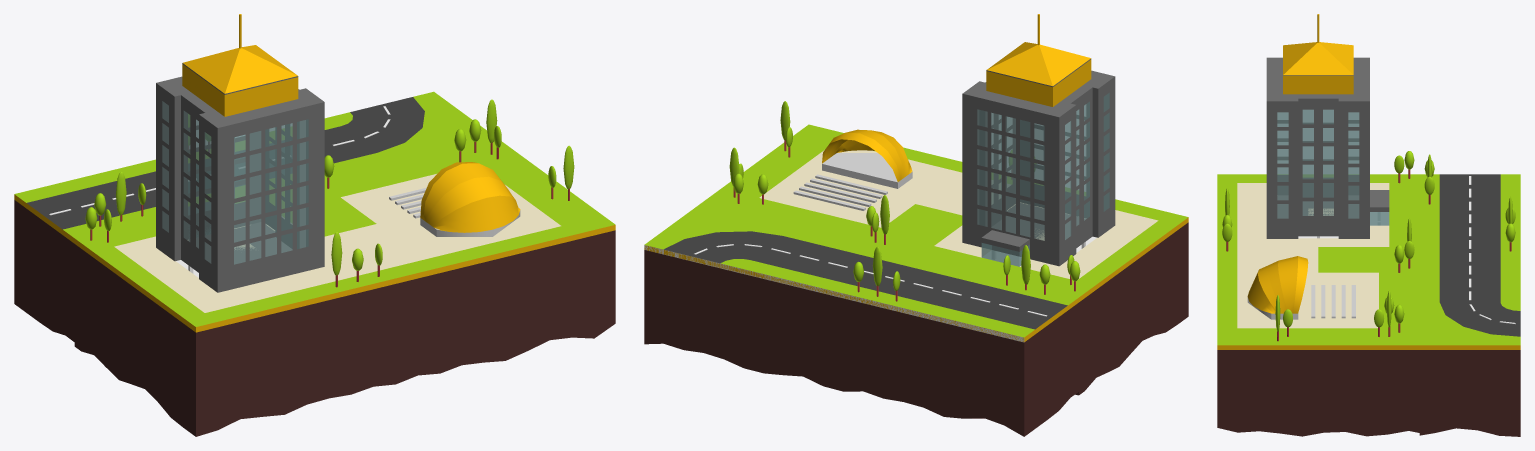
The model's file is overview.dae.
3 views of the same model, side by side, from view 1: azimuth 30°, elevation 25°; view 2: azimuth 150°, elevation 25°; view 3: azimuth 270°, elevation 25° (orthographic). The views are drawn at different scales.
Parts seen in each view (by area): view 1: fef7d243-ff73-44c4-85b4-75331febaa0b, af647f5d-5ba7-4377-a7e1-99fc1653c0ef, f9627616-55ad-4168-bee3-c4efe342b9d5, dca888bb-3882-4458-b8ee-13866873a461, a338ef20-35cc-4352-bb46-93172cdcf452, e663385d-0089-4fc5-95d7-fb1334f9df78, a9928037-2eb7-487d-83bb-09142c56451e, a56b2e35-652e-428f-b515-0bdb80921c08, b9bafd4d-7958-4cab-a7f9-b991a16603ce, aff2afb5-cb59-41e5-a849-02ff7cf1fc95, ac0dbc92-fd7e-454d-ae20-9e1ecc91cb48, a2ac3bf1-12a3-4d6f-b81c-e39a974b03f0 (+9 smaller); view 2: a9928037-2eb7-487d-83bb-09142c56451e, af647f5d-5ba7-4377-a7e1-99fc1653c0ef, a338ef20-35cc-4352-bb46-93172cdcf452, fef7d243-ff73-44c4-85b4-75331febaa0b, dca888bb-3882-4458-b8ee-13866873a461, b9bafd4d-7958-4cab-a7f9-b991a16603ce, e663385d-0089-4fc5-95d7-fb1334f9df78, aff2afb5-cb59-41e5-a849-02ff7cf1fc95, ad58c5b7-07e5-4a5a-8a23-45509512fe29, a56b2e35-652e-428f-b515-0bdb80921c08, ac0dbc92-fd7e-454d-ae20-9e1ecc91cb48, a2ac3bf1-12a3-4d6f-b81c-e39a974b03f0 (+8 smaller); view 3: f9627616-55ad-4168-bee3-c4efe342b9d5, af647f5d-5ba7-4377-a7e1-99fc1653c0ef, a338ef20-35cc-4352-bb46-93172cdcf452, a9928037-2eb7-487d-83bb-09142c56451e, dca888bb-3882-4458-b8ee-13866873a461, e663385d-0089-4fc5-95d7-fb1334f9df78, b9bafd4d-7958-4cab-a7f9-b991a16603ce, aff2afb5-cb59-41e5-a849-02ff7cf1fc95, a56b2e35-652e-428f-b515-0bdb80921c08, ad58c5b7-07e5-4a5a-8a23-45509512fe29, ac0dbc92-fd7e-454d-ae20-9e1ecc91cb48, a2ac3bf1-12a3-4d6f-b81c-e39a974b03f0 (+9 smaller).
Part boxes in pixels (<box>): fef7d243-ff73-44c4-85b4-75331febaa0b: <box>74,244,405,436</box>; af647f5d-5ba7-4377-a7e1-99fc1653c0ef: <box>156,76,324,292</box>; f9627616-55ad-4168-bee3-c4efe342b9d5: <box>406,230,615,380</box>; dca888bb-3882-4458-b8ee-13866873a461: <box>291,137,615,275</box>; a338ef20-35cc-4352-bb46-93172cdcf452: <box>27,97,424,229</box>; e663385d-0089-4fc5-95d7-fb1334f9df78: <box>341,174,560,266</box>; a9928037-2eb7-487d-83bb-09142c56451e: <box>14,200,74,341</box>; a56b2e35-652e-428f-b515-0bdb80921c08: <box>114,218,392,312</box>; b9bafd4d-7958-4cab-a7f9-b991a16603ce: <box>75,191,405,326</box>; aff2afb5-cb59-41e5-a849-02ff7cf1fc95: <box>63,91,487,238</box>; ac0dbc92-fd7e-454d-ae20-9e1ecc91cb48: <box>183,14,297,93</box>; a2ac3bf1-12a3-4d6f-b81c-e39a974b03f0: <box>182,64,298,116</box>; a9928037-2eb7-487d-83bb-09142c56451e: <box>644,250,1078,436</box>; af647f5d-5ba7-4377-a7e1-99fc1653c0ef: <box>962,70,1115,266</box>; a338ef20-35cc-4352-bb46-93172cdcf452: <box>663,231,1067,329</box>; fef7d243-ff73-44c4-85b4-75331febaa0b: <box>1075,222,1188,395</box>; dca888bb-3882-4458-b8ee-13866873a461: <box>699,124,992,250</box>; b9bafd4d-7958-4cab-a7f9-b991a16603ce: <box>889,175,1188,297</box>; e663385d-0089-4fc5-95d7-fb1334f9df78: <box>759,150,962,227</box>; aff2afb5-cb59-41e5-a849-02ff7cf1fc95: <box>644,205,1078,305</box>; ad58c5b7-07e5-4a5a-8a23-45509512fe29: <box>720,259,1034,337</box>; a56b2e35-652e-428f-b515-0bdb80921c08: <box>934,180,1158,279</box>; ac0dbc92-fd7e-454d-ae20-9e1ecc91cb48: <box>987,14,1090,86</box>; a2ac3bf1-12a3-4d6f-b81c-e39a974b03f0: <box>986,59,1091,106</box>; f9627616-55ad-4168-bee3-c4efe342b9d5: <box>1217,350,1419,436</box>; af647f5d-5ba7-4377-a7e1-99fc1653c0ef: <box>1266,57,1369,238</box>; a338ef20-35cc-4352-bb46-93172cdcf452: <box>1439,174,1520,336</box>; a9928037-2eb7-487d-83bb-09142c56451e: <box>1419,350,1520,436</box>; dca888bb-3882-4458-b8ee-13866873a461: <box>1217,259,1419,345</box>; e663385d-0089-4fc5-95d7-fb1334f9df78: <box>1237,259,1378,328</box>; b9bafd4d-7958-4cab-a7f9-b991a16603ce: <box>1217,174,1419,259</box>; aff2afb5-cb59-41e5-a849-02ff7cf1fc95: <box>1419,174,1520,345</box>; a56b2e35-652e-428f-b515-0bdb80921c08: <box>1237,183,1389,259</box>; ad58c5b7-07e5-4a5a-8a23-45509512fe29: <box>1500,174,1520,310</box>; ac0dbc92-fd7e-454d-ae20-9e1ecc91cb48: <box>1283,14,1353,75</box>; a2ac3bf1-12a3-4d6f-b81c-e39a974b03f0: <box>1283,76,1353,94</box>.
Size of the model in its own units: 40 by 30 by 32.1.
